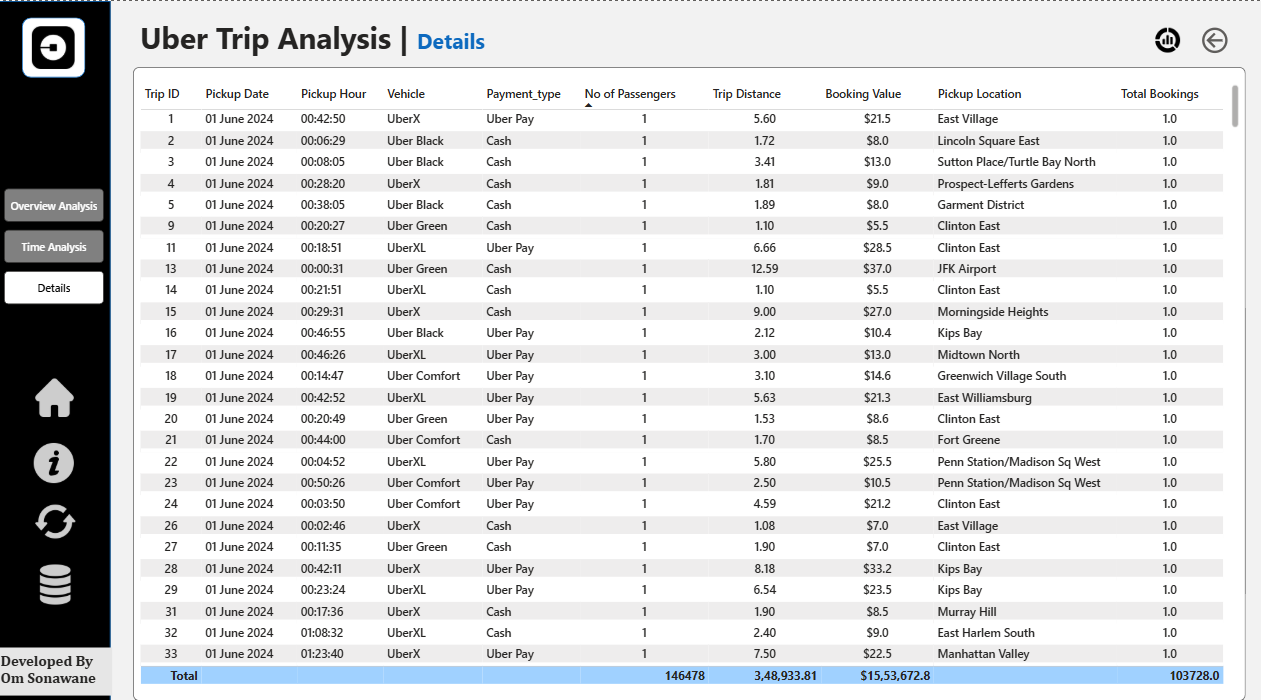

What the dashboard file says about the page in this screenshot:
{"tool":"powerbi","page":{"name":"Details","canvas":[1600,900],"ordinal":2},"visuals":[{"type":"shape","box":[4,0,142,900],"z":0},{"type":"textbox","box":[178,15.3,602,68],"z":1000},{"type":"shape","box":[174,84,1404,800],"z":2000},{"type":"tableEx","fields":{"Values":["Trip Details.Trip ID","Trip Details.Pickup Date","Trip Details.Pickup Hour (HH MM SS)","Trip Details.Vehicle","Trip Details.Payment_type","Sum(Trip Details.passenger_count)","Trip Details.Total Trip Distance Measure","Trip Details.Total Booking Value","Location Table.Location","Trip Details.Total Bookings"]},"box":[177.1,100.7,1396.6,766.4],"z":3000},{"type":"actionButton","box":[1517.5,27.5,50,42.5],"z":4000},{"type":"image","box":[1458.3,28.3,45,41.7],"z":5000},{"type":"shape","box":[34.6,20,79.9,75.9],"z":6000},{"type":"image","box":[37.7,26.2,70.8,64.6],"z":7000},{"type":"pageNavigator","box":[12,236.7,126.7,146],"z":8000},{"type":"image","box":[45.9,465.6,59,69.9],"z":9000},{"type":"image","box":[45.9,699.5,61.2,72.1],"z":10000},{"type":"image","box":[43.7,546.4,61.2,72.1],"z":11000},{"type":"image","box":[45.9,620.8,61.2,72.1],"z":12000},{"type":"textbox","box":[1.9,815.8,145.7,60.6],"z":13001}]}

Visuals, with their boxes on the page's 1600x900 design canvas (x1, y1, x2, y2). These are canvas units, not pixel positions in the 1261x700 screenshot, which may show the page scaled, cropped or inside an application window:
shape: [x1=4, y1=0, x2=146, y2=900]
textbox: [x1=178, y1=15, x2=780, y2=83]
shape: [x1=174, y1=84, x2=1578, y2=884]
tableEx - Trip Details.Trip ID x Trip Details.Pickup Date: [x1=177, y1=101, x2=1574, y2=867]
actionButton: [x1=1518, y1=28, x2=1568, y2=70]
image: [x1=1458, y1=28, x2=1503, y2=70]
shape: [x1=35, y1=20, x2=114, y2=96]
image: [x1=38, y1=26, x2=108, y2=91]
pageNavigator: [x1=12, y1=237, x2=139, y2=383]
image: [x1=46, y1=466, x2=105, y2=536]
image: [x1=46, y1=700, x2=107, y2=772]
image: [x1=44, y1=546, x2=105, y2=618]
image: [x1=46, y1=621, x2=107, y2=693]
textbox: [x1=2, y1=816, x2=148, y2=876]
